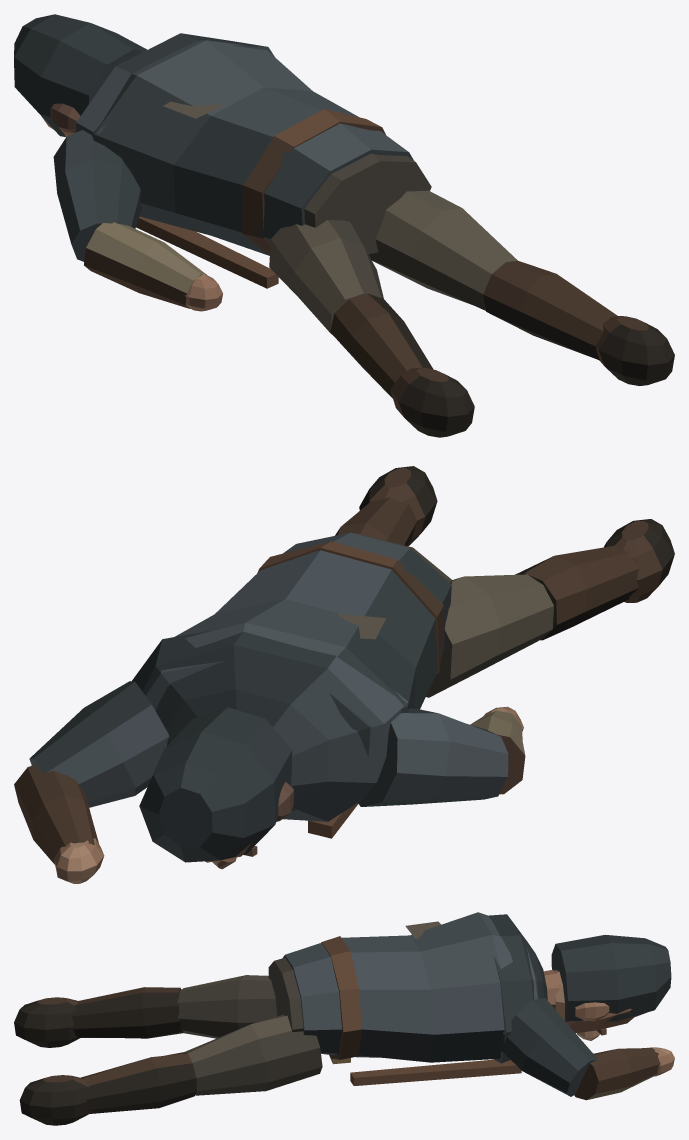
Rendered from fallen-b.glb.
The picture shows the model from 3 angles, top to bottom: view 1: azimuth 30°, elevation 25°; view 2: azimuth 150°, elevation 25°; view 3: azimuth 270°, elevation 25°; orthographic projection. The views are drawn at different scales.
Visible parts, largest first — view 1: Cloth, Skin; view 2: Cloth, Skin; view 3: Cloth, Skin.
Part boxes in pixels (box(x1,y1,x2,y2)): Cloth: box(14, 14, 674, 437); Skin: box(41, 103, 222, 311); Cloth: box(14, 466, 674, 864); Skin: box(53, 706, 523, 883); Cloth: box(14, 912, 671, 1125); Skin: box(543, 969, 674, 1076).
Size of the model in its own units: 0.838 by 0.3769 by 1.73.
